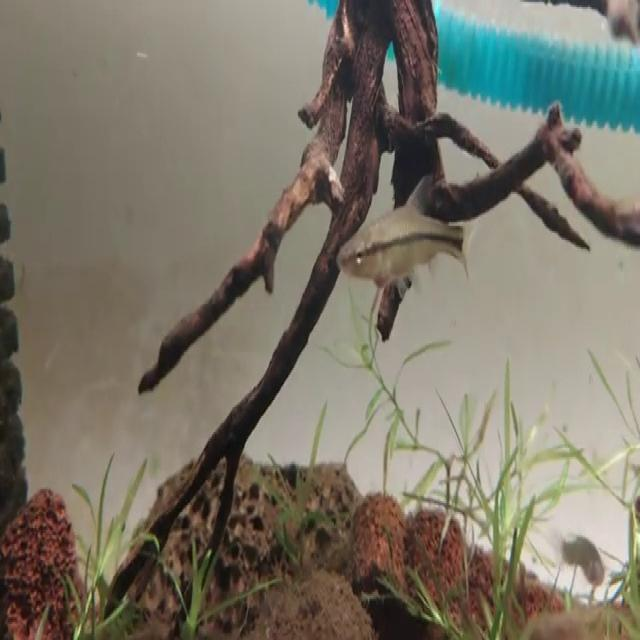Cakil Baligi: (340, 176, 474, 299)
